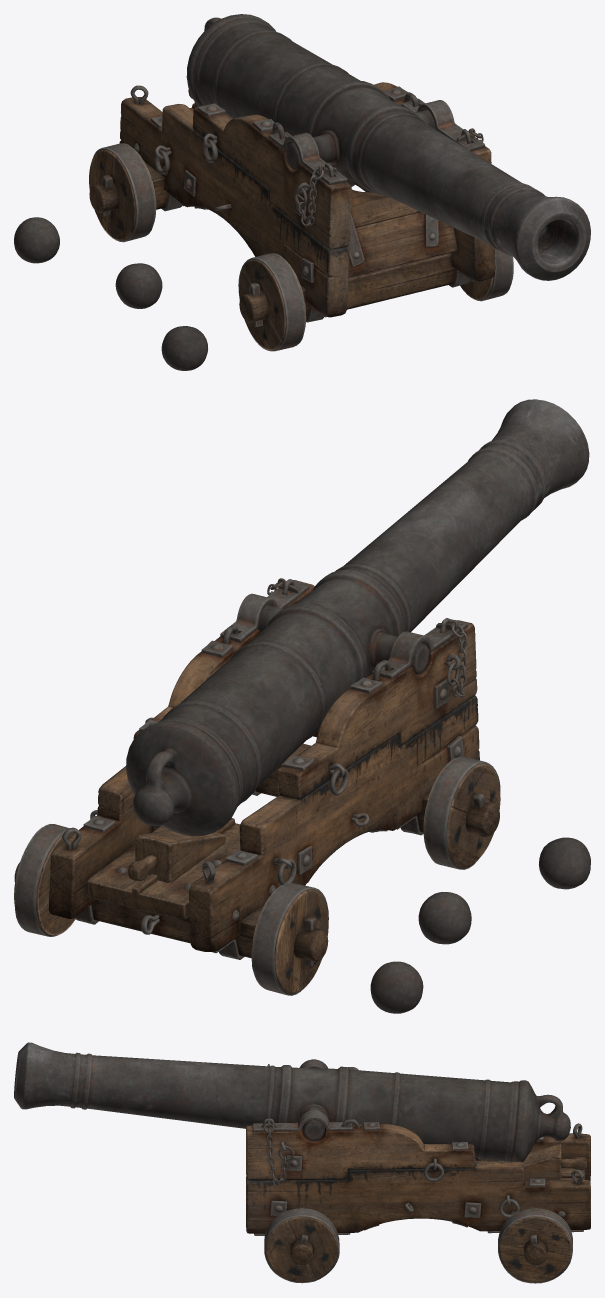
The model's file is cannon_01_4k.gltf.
3 views of the same model, one above another, from view 1: azimuth 30°, elevation 25°; view 2: azimuth 150°, elevation 25°; view 3: azimuth 270°, elevation 25° (orthographic). The views are drawn at different scales.
Visible parts, largest first — view 1: cannon_01_frame, cannon_01_barrel, cannon_01_wheel_02, cannon_01_wheel_01, cannon_01_ball_02, cannon_01_ball_03, cannon_01_ball_01, cannon_01_wheel_03; view 2: cannon_01_frame, cannon_01_barrel, cannon_01_wheel_01, cannon_01_wheel_02, cannon_01_wheel_04, cannon_01_pusherblock, cannon_01_ball_02, cannon_01_ball_03, cannon_01_ball_01; view 3: cannon_01_barrel, cannon_01_frame, cannon_01_wheel_04, cannon_01_wheel_03, cannon_01_pusherblock.
Part boxes in pixels (x1,y1,x2,y2): cannon_01_frame: (89, 82, 495, 327); cannon_01_barrel: (186, 14, 590, 280); cannon_01_wheel_02: (89, 143, 156, 242); cannon_01_wheel_01: (238, 253, 306, 351); cannon_01_ball_02: (115, 263, 162, 308); cannon_01_ball_03: (14, 217, 59, 263); cannon_01_ball_01: (161, 326, 207, 370); cannon_01_wheel_03: (460, 248, 513, 301); cannon_01_frame: (14, 578, 499, 966); cannon_01_barrel: (126, 399, 589, 836); cannon_01_wheel_01: (423, 757, 500, 869); cannon_01_wheel_02: (251, 882, 328, 995); cannon_01_wheel_04: (14, 824, 75, 936); cannon_01_pusherblock: (128, 830, 225, 882); cannon_01_ball_02: (418, 892, 471, 944); cannon_01_ball_03: (370, 961, 423, 1013); cannon_01_ball_01: (539, 837, 590, 889); cannon_01_barrel: (14, 1042, 570, 1162); cannon_01_frame: (246, 1059, 590, 1267); cannon_01_wheel_04: (498, 1208, 572, 1283); cannon_01_wheel_03: (264, 1208, 339, 1283); cannon_01_pusherblock: (498, 1144, 586, 1180).
Size of the model in its own units: 1.23 by 0.8588 by 2.3.
Materials: 1 (1 with a texture image).
